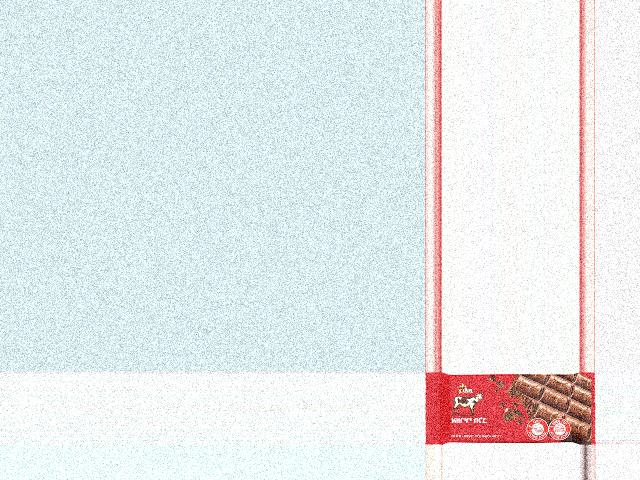chocolate: (427, 373, 595, 445)
